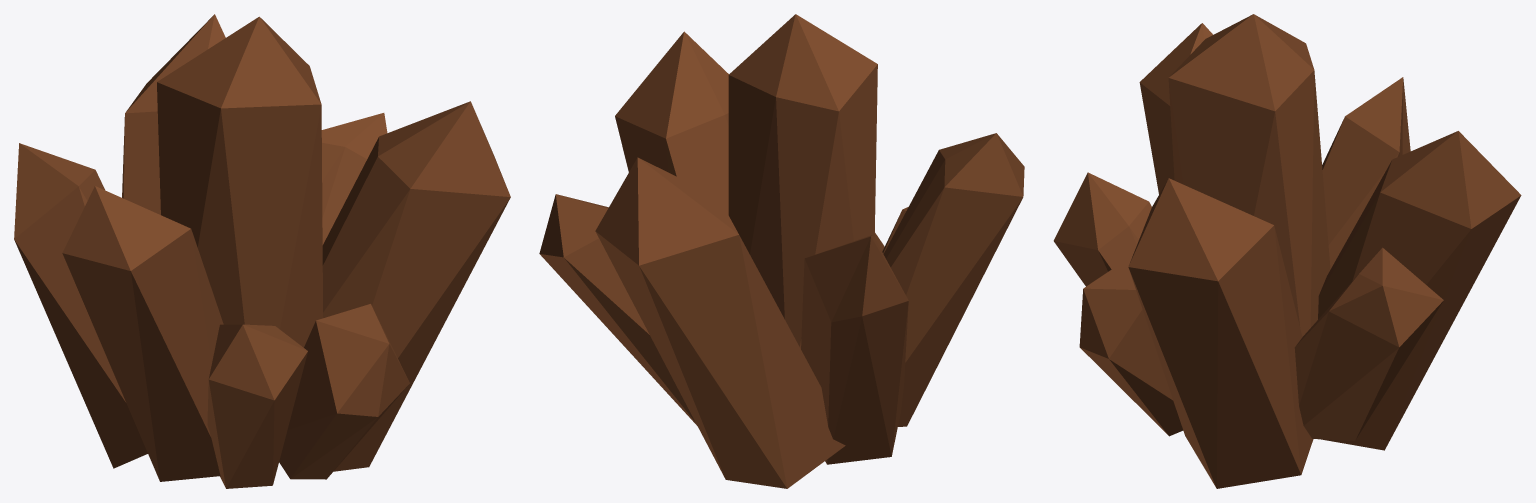
File: brown_crystal_block.obj
3 views of the same model, side by side, from view 1: azimuth 30°, elevation 25°; view 2: azimuth 150°, elevation 25°; view 3: azimuth 270°, elevation 25° (orthographic). The views are drawn at different scales.
Parts seen in each view (by area): view 1: Icosphere.036_Icosphere.037; view 2: Icosphere.036_Icosphere.037; view 3: Icosphere.036_Icosphere.037.
Boxes of the visible parts, left/top/right/bottom form: Icosphere.036_Icosphere.037: left=14, top=14, right=510, bottom=488; Icosphere.036_Icosphere.037: left=539, top=14, right=1024, bottom=488; Icosphere.036_Icosphere.037: left=1053, top=14, right=1521, bottom=488.
Bounding box in the file's own units: 1.01 × 1.01 × 0.9894.
